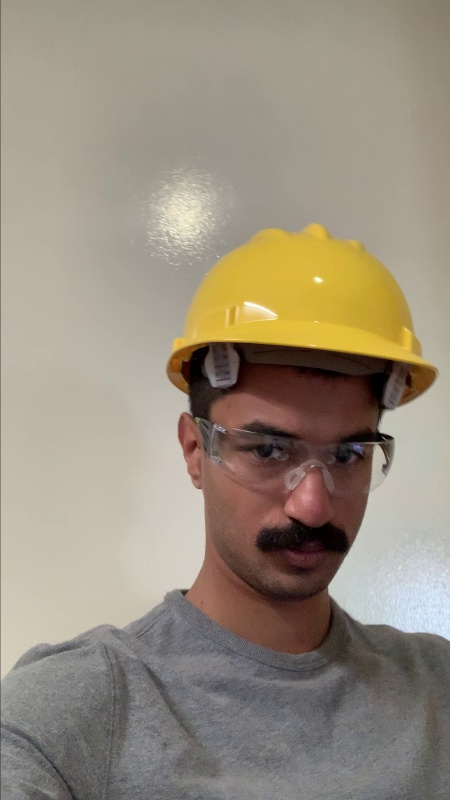glasses: (212, 423, 398, 504)
helmet: (156, 219, 441, 401)
